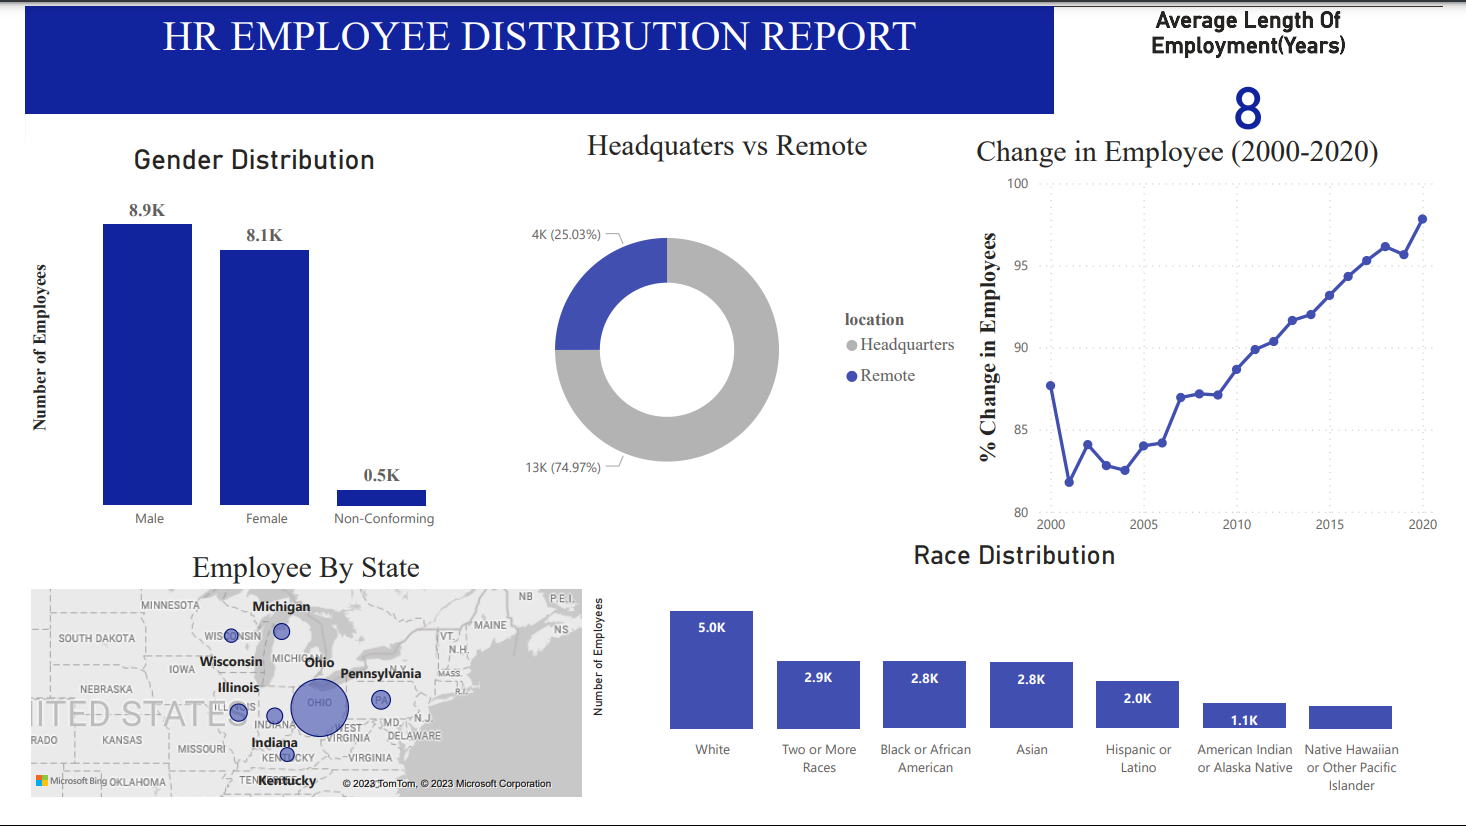

The page's visual inventory and layout, read from the dashboard file:
{"tool":"powerbi","page":{"name":"Page 1","canvas":[1280,720],"ordinal":0},"visuals":[{"type":"textbox","box":[0,0,928.7,97.1],"z":0},{"type":"card","title":"Average Length Of Employment(Years)","fields":{"Values":["Sum(avg_length_employment.avg_length_employment)"]},"box":[928.7,0,351.1,123],"z":1},{"type":"columnChart","title":"Gender Distribution","fields":{"Category":["gender.gender"],"Y":["Sum(gender.count)"]},"box":[0,123,414.2,357.6],"z":2},{"type":"donutChart","title":"Headquaters vs Remote","fields":{"Y":["Sum(location.count)"],"Category":["location.location"]},"box":[414.2,110,440.1,370.5],"z":3},{"type":"lineChart","title":"Change in Employee (2000-2020)","fields":{"Category":["employee_change.year"],"Y":["Sum(employee_change.net_change_percent)"]},"box":[854.3,116.5,425.5,370.5],"z":4},{"type":"map","title":"Employee By State","fields":{"Category":["state.location_state"],"Size":["Sum(state.count)"]},"box":[0,491.7,506.7,228.3],"z":5},{"type":"clusteredColumnChart","title":"Race Distribution","fields":{"Category":["race.race"],"Y":["Sum(race.count)"]},"box":[506.7,481.7,773.3,238.3],"z":6}]}

Visuals, with their boxes in screenshot pixels (x1, y1, x2, y2), scaled from the page's 1280x720 canvas onto the 1466x826 screenshot:
textbox: Rect(0, 0, 1064, 111)
"Average Length Of Employment(Years)" card: Rect(1064, 0, 1465, 141)
"Gender Distribution" columnChart: Rect(0, 141, 474, 551)
"Headquaters vs Remote" donutChart: Rect(474, 126, 978, 551)
"Change in Employee (2000-2020)" lineChart: Rect(978, 134, 1465, 559)
"Employee By State" map: Rect(0, 564, 580, 825)
"Race Distribution" clusteredColumnChart: Rect(580, 553, 1465, 825)
